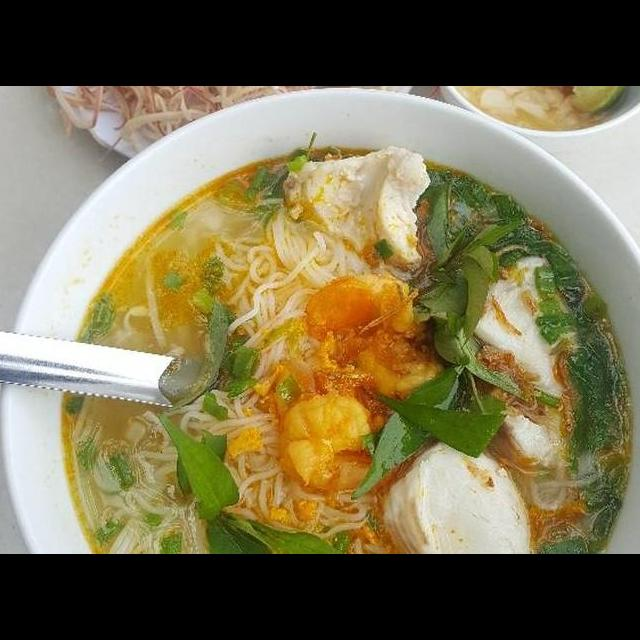bun: (74, 395, 278, 554), (198, 209, 322, 400)
bun ca: (19, 133, 640, 554)
ca: (448, 247, 596, 478), (279, 140, 436, 272), (378, 438, 538, 554)
rau ram: (352, 318, 534, 508), (150, 407, 340, 554), (406, 178, 524, 358), (152, 294, 238, 415)
tom: (274, 388, 402, 504), (300, 272, 418, 355), (344, 321, 454, 405)
